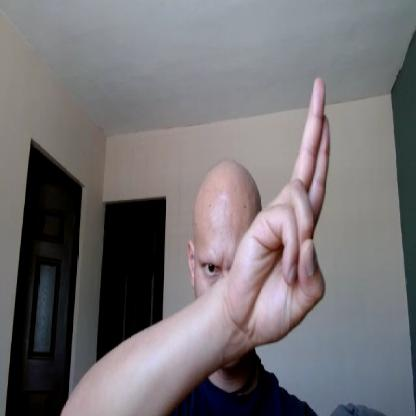U: (236, 74, 332, 345)
